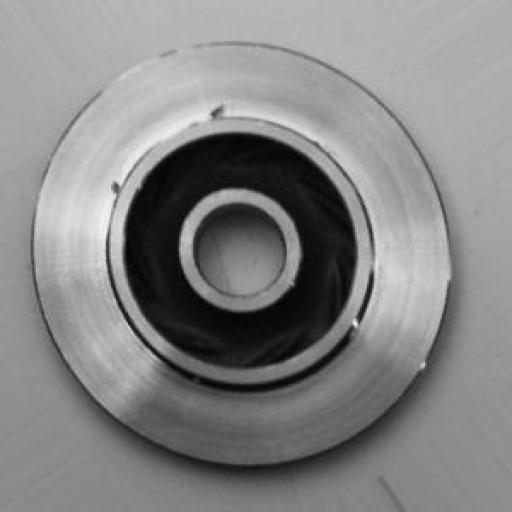defect: (97, 99, 264, 205)
